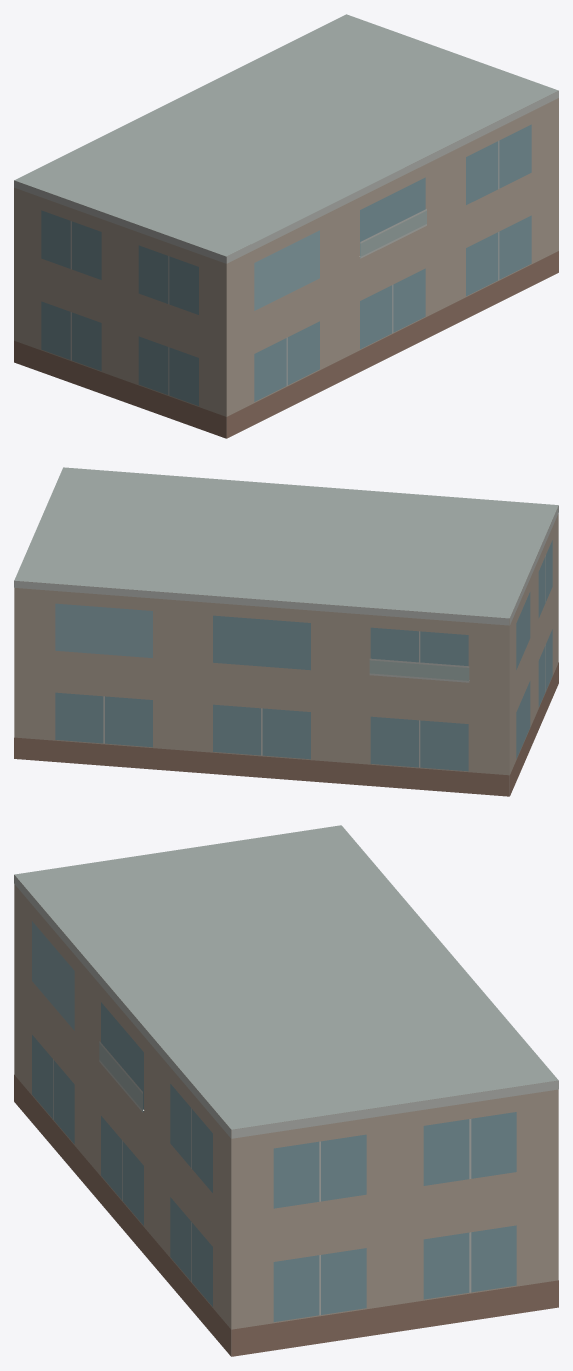
File: survey-upis-32806162.glb
The picture shows the model from 3 angles, top to bottom: view 1: azimuth 30°, elevation 25°; view 2: azimuth 150°, elevation 25°; view 3: azimuth 270°, elevation 25°; orthographic projection. The views are drawn at different scales.
Visible parts, largest first — view 1: survey-upis-32806162.tmp; view 2: survey-upis-32806162.tmp; view 3: survey-upis-32806162.tmp.
Part boxes in pixels (x1=…): survey-upis-32806162.tmp: x1=14, y1=14, x2=558, y2=438; survey-upis-32806162.tmp: x1=14, y1=467, x2=558, y2=796; survey-upis-32806162.tmp: x1=14, y1=825, x2=558, y2=1356.
Bounding box in the file's own units: 17.56 × 6.1 × 13.27.
